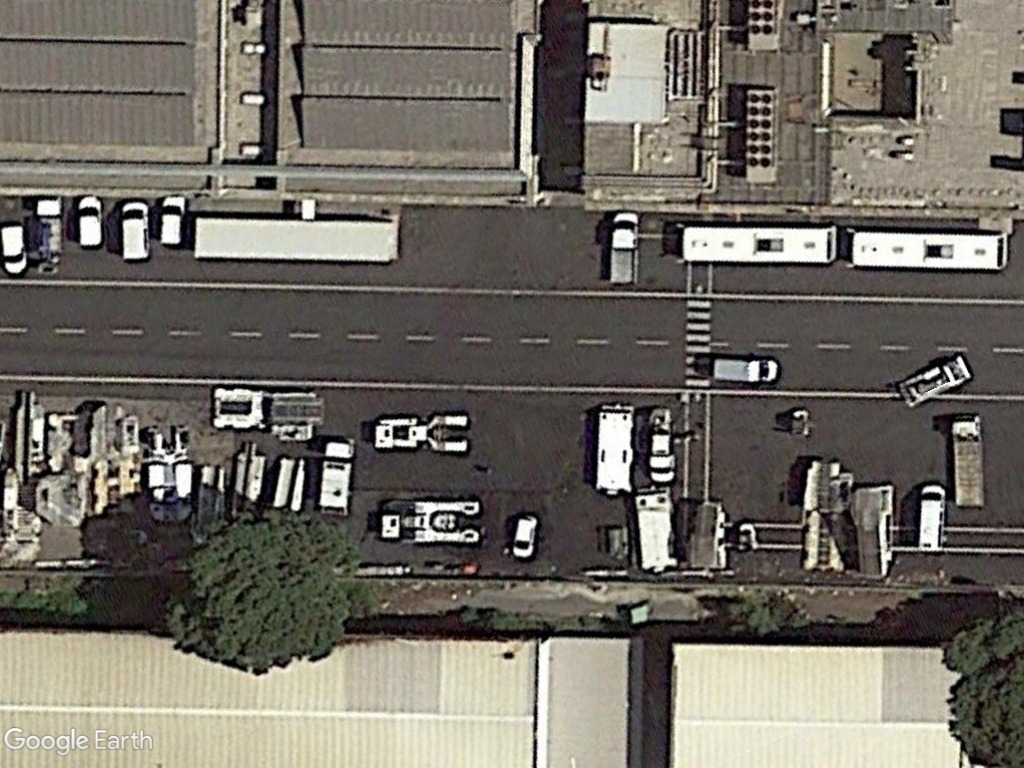bus: (840, 222, 1010, 273), (672, 217, 839, 267)
longvehicle: (188, 208, 406, 268)
other: (896, 350, 973, 411)
pushbacktruck: (141, 416, 198, 528), (376, 490, 486, 548), (370, 405, 472, 456)
truck: (595, 400, 637, 502), (948, 413, 988, 512), (316, 437, 359, 520), (605, 208, 644, 288)
van: (913, 476, 950, 558), (115, 194, 153, 264), (705, 353, 781, 385), (75, 192, 105, 251), (0, 222, 30, 279), (158, 192, 187, 250), (508, 511, 540, 561)
